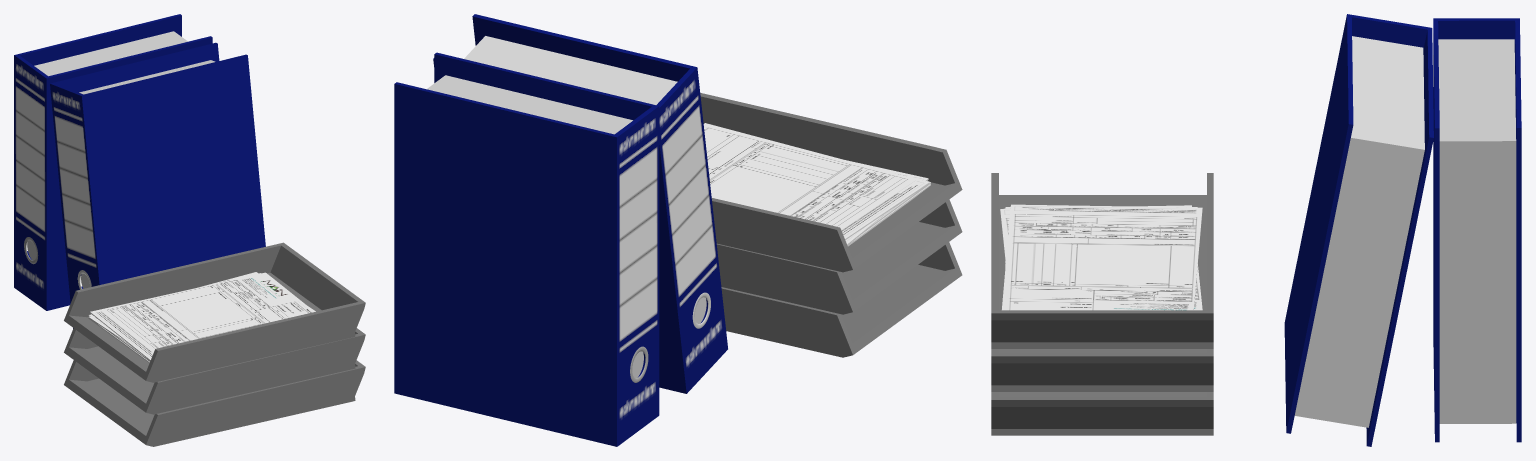
The model's file is paretevetrataamministazione.gltf.
3 renders of one model, left to right at view 1: azimuth 30°, elevation 25°; view 2: azimuth 150°, elevation 25°; view 3: azimuth 270°, elevation 25°, orthographic. The views are drawn at different scales.
Visible parts, largest first — view 1: Faldone Inclinato, Cassettiera Fattura 1, Faldone Dritto, Cassettiera Fattura 3, Cassettiera Fattura 2, Fattura 3; view 2: Faldone Dritto, Faldone Inclinato, Cassettiera Fattura 1, Fattura 3, Cassettiera Fattura 2, Cassettiera Fattura 3; view 3: Faldone Inclinato, Faldone Dritto, Fattura 3, Cassettiera Fattura 1, Cassettiera Fattura 3, Cassettiera Fattura 2, Fattura 2.
Part boxes in pixels (bbox=[...]): Faldone Inclinato: bbox=[50, 42, 265, 328]; Cassettiera Fattura 1: bbox=[64, 242, 365, 382]; Faldone Dritto: bbox=[14, 14, 212, 310]; Cassettiera Fattura 3: bbox=[64, 360, 365, 446]; Cassettiera Fattura 2: bbox=[64, 328, 365, 414]; Fattura 3: bbox=[90, 272, 314, 360]; Faldone Dritto: bbox=[394, 52, 659, 446]; Faldone Inclinato: bbox=[433, 14, 727, 393]; Cassettiera Fattura 1: bbox=[700, 93, 962, 272]; Fattura 3: bbox=[703, 123, 929, 239]; Cassettiera Fattura 2: bbox=[716, 199, 962, 314]; Cassettiera Fattura 3: bbox=[721, 242, 962, 357]; Faldone Inclinato: bbox=[1284, 14, 1433, 446]; Faldone Dritto: bbox=[1433, 18, 1521, 442]; Fattura 3: bbox=[1002, 204, 1202, 310]; Cassettiera Fattura 1: bbox=[991, 173, 1213, 348]; Cassettiera Fattura 3: bbox=[991, 392, 1213, 435]; Cassettiera Fattura 2: bbox=[991, 349, 1213, 391]; Fattura 2: bbox=[1000, 205, 1202, 310].
Size of the model in its own units: 0.4215 by 0.4178 by 0.6119.
5 materials, 2 textured.
